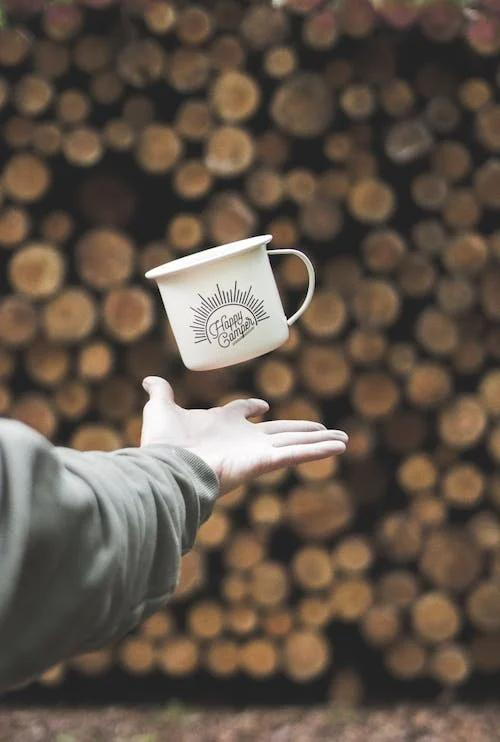Mug: (127, 240, 361, 380)
